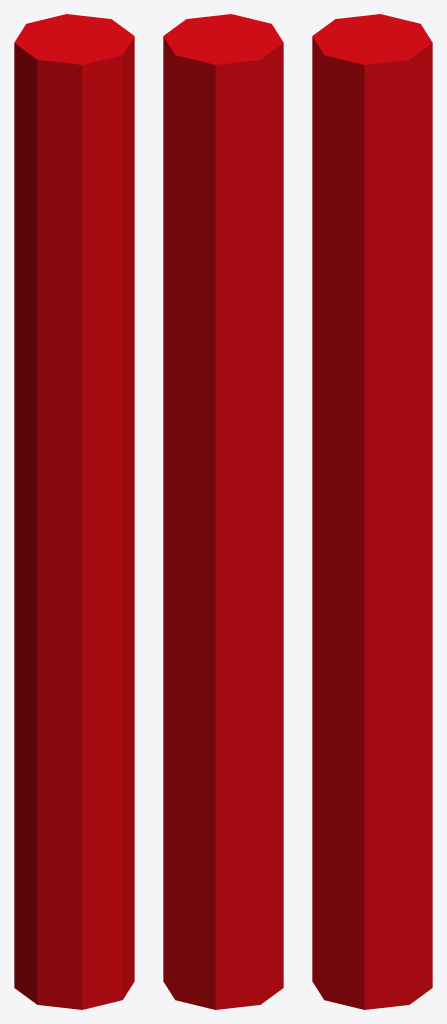
Rendered from kmgxxl001base.glb.
3 renders of one model, left to right at view 1: azimuth 30°, elevation 25°; view 2: azimuth 150°, elevation 25°; view 3: azimuth 330°, elevation 25°, orthographic.
Visible parts, largest first — view 1: Plane.001; view 2: Plane.001; view 3: Plane.001.
Boxes of the visible parts, box(x1,y1,x2,y2) form: Plane.001: box(14, 14, 134, 1009); Plane.001: box(163, 14, 283, 1009); Plane.001: box(312, 14, 432, 1009).
Size of the model in its own units: 1.21 by 11.22 by 1.21.
